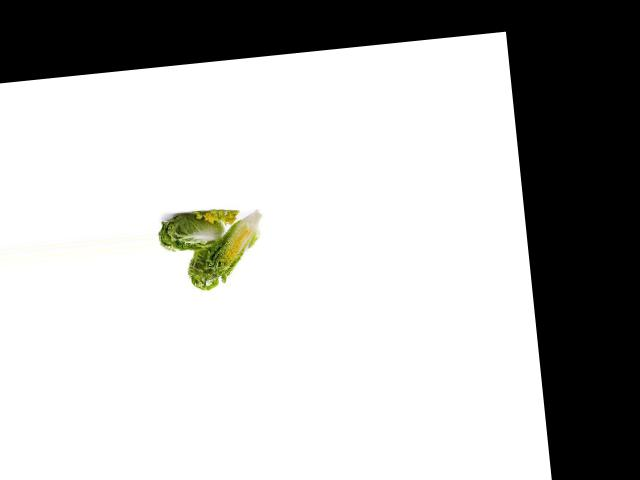lettuce: (158, 205, 234, 255)
